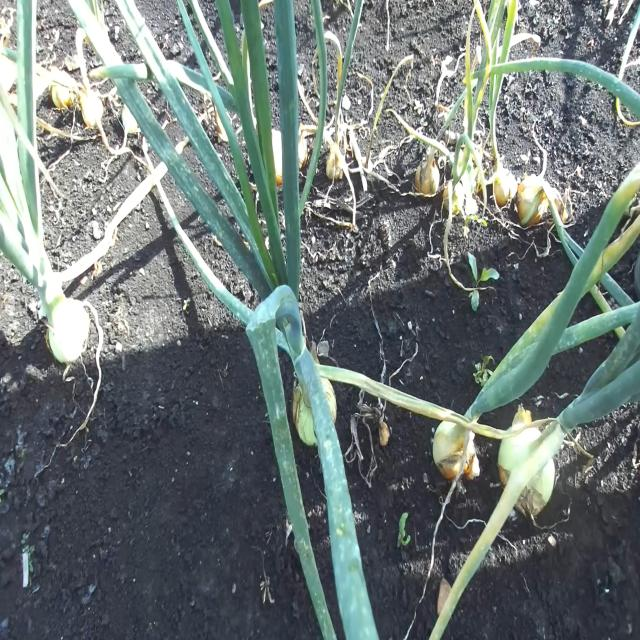onion: (497, 423, 556, 522), (292, 375, 338, 448), (432, 417, 478, 482), (414, 152, 440, 198)
